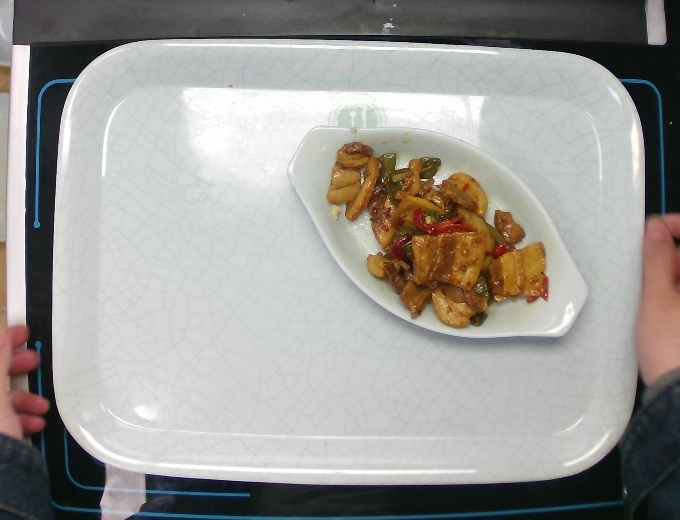JYsf-Yu_Pan: (286, 117, 592, 342)
